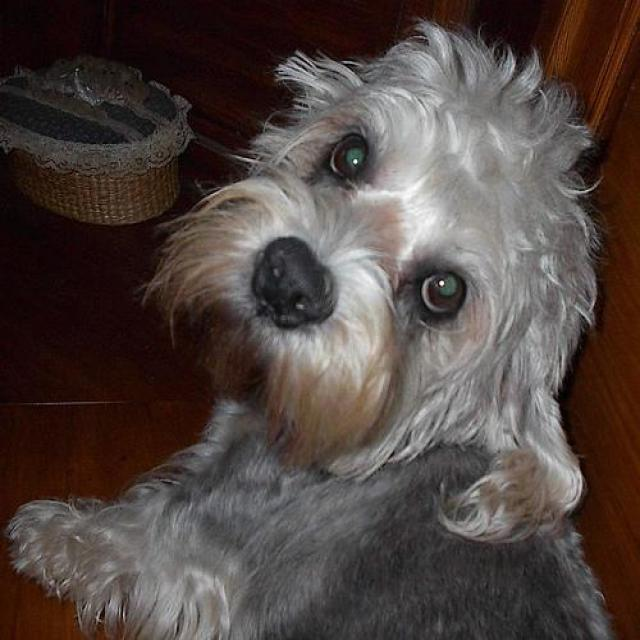dandie_dinmont: (7, 24, 610, 637)
